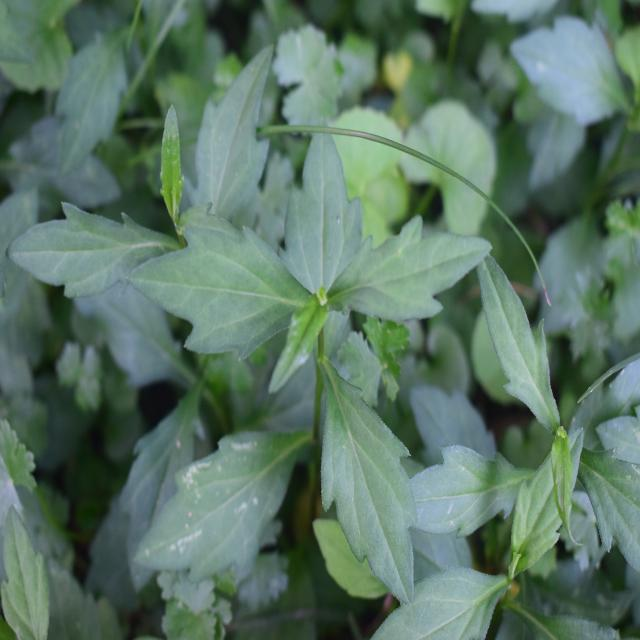Indian aster: (62, 81, 479, 578)
